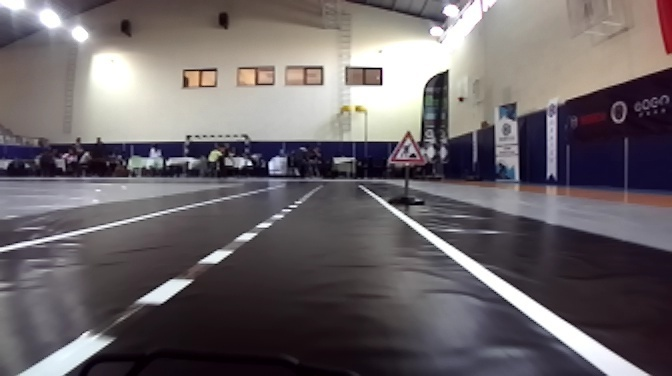yol_yapimi: (385, 131, 426, 164)
